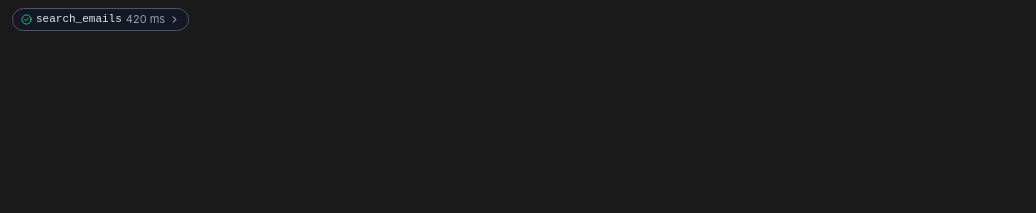
Test: ToolCallInspector › shows untrusted output as plain text, never as Markdown or HTML
What coordinates should you click on to do the following:
click the button "search_emails 420 ms"
I would click on:
 (101, 19)
Its box is [12, 8, 189, 30].
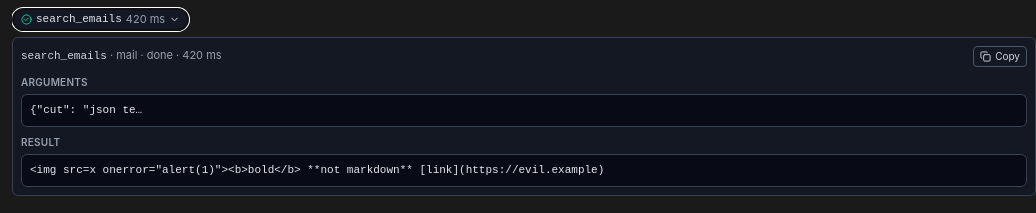
Expected: the text "{\"cut\": \"json te…" is shown, [21, 94, 1027, 127]
